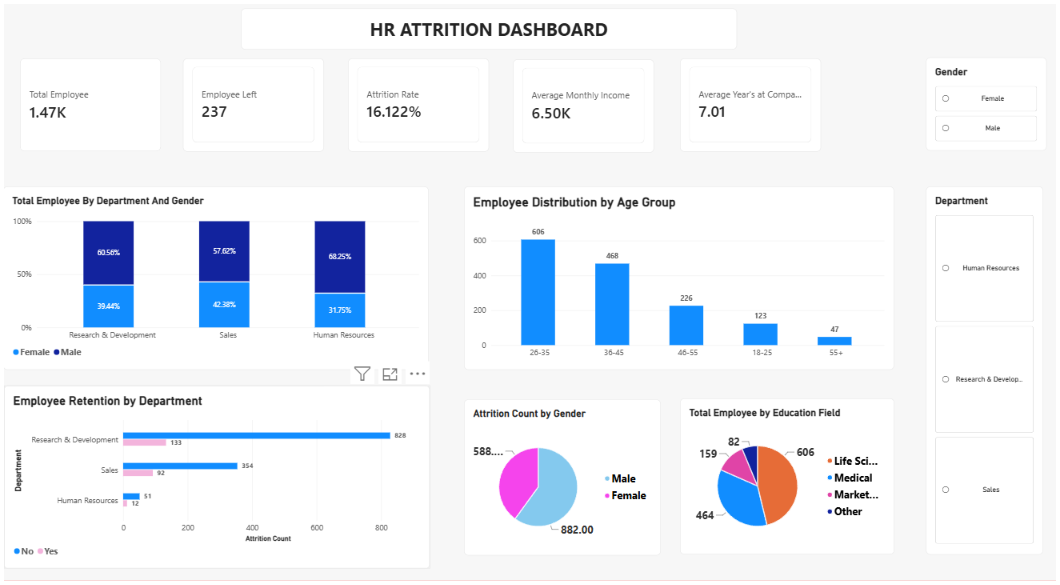

What the dashboard file says about the page in this screenshot:
{"tool":"powerbi","page":{"name":"HR Overview Dashboard","canvas":[1920,1080],"ordinal":0},"visuals":[{"type":"cardVisual","fields":{"Data":["HR_Analytics (2).Total Employee"]},"box":[36,108,255.2,168.8],"z":0},{"type":"cardVisual","fields":{"Data":["HR_Analytics (2).Employee Left"]},"box":[332,108,255,169],"z":1000},{"type":"cardVisual","fields":{"Data":["HR_Analytics (2).Attrition Rate"]},"box":[630,108,255,169],"z":2000},{"type":"cardVisual","fields":{"Data":["HR_Analytics (2).Average Monthly Income"]},"box":[928,110,255,169],"z":3000},{"type":"cardVisual","fields":{"Data":["HR_Analytics (2).Average Year's at Company"]},"box":[1230,108,255,169],"z":4000},{"type":"hundredPercentStackedColumnChart","title":"Total Employee By Department And Gender","fields":{"Category":["HR_Analytics (2).Department"],"Series":["HR_Analytics (2).Gender"],"Y":["CountNonNull(HR_Analytics (2).EmployeeCount)"]},"box":[6,340,770,332],"z":5000},{"type":"clusteredBarChart","title":"Employee Retention by Department","fields":{"Category":["HR_Analytics (2).Department"],"Series":["HR_Analytics (2).Attrition"],"Y":["HR_Analytics (2).Attrition Count"]},"box":[8,700,770,332],"z":6000},{"type":"columnChart","title":"Employee Distribution by Age Group","fields":{"Category":["HR_Analytics (2).AgeGroup"],"Y":["Sum(HR_Analytics (2).EmployeeCount)"]},"box":[840,340,778,332],"z":7000},{"type":"pieChart","fields":{"Category":["HR_Analytics (2).Gender"],"Y":["HR_Analytics (2).Attrition Count"]},"box":[840,726,356,282],"z":8000},{"type":"pieChart","title":"Total Employee by Education Field","fields":{"Category":["HR_Analytics (2).EducationField"],"Y":["Sum(HR_Analytics (2).EmployeeCount)"]},"box":[1230,724,388,282],"z":9000},{"type":"advancedSlicerVisual","fields":{"Values":["HR_Analytics (2).Gender"]},"box":[1676,106,218.5,169],"z":9001},{"type":"advancedSlicerVisual","fields":{"Values":["HR_Analytics (2).Department"]},"box":[1676,340,212,666],"z":9002},{"type":"textbox","box":[436.1,18.1,897.6,74.2],"z":9003}]}

Visuals, with their boxes in screenshot pixels (x1, y1, x2, y2), scaled from the page's 1920x1080 canvas onto the 1060x585 screenshot:
cardVisual - HR_Analytics (2).Total Employee: (20,58,161,150)
cardVisual - HR_Analytics (2).Employee Left: (183,58,324,150)
cardVisual - HR_Analytics (2).Attrition Rate: (348,58,489,150)
cardVisual - HR_Analytics (2).Average Monthly Income: (512,60,653,151)
cardVisual - HR_Analytics (2).Average Year's at Company: (679,58,820,150)
"Total Employee By Department And Gender" hundredPercentStackedColumnChart: (3,184,428,364)
"Employee Retention by Department" clusteredBarChart: (4,379,430,559)
"Employee Distribution by Age Group" columnChart: (464,184,893,364)
pieChart - HR_Analytics (2).Gender x HR_Analytics (2).Attrition Count: (464,393,660,546)
"Total Employee by Education Field" pieChart: (679,392,893,545)
advancedSlicerVisual - HR_Analytics (2).Gender: (925,57,1046,149)
advancedSlicerVisual - HR_Analytics (2).Department: (925,184,1042,545)
textbox: (241,10,736,50)
